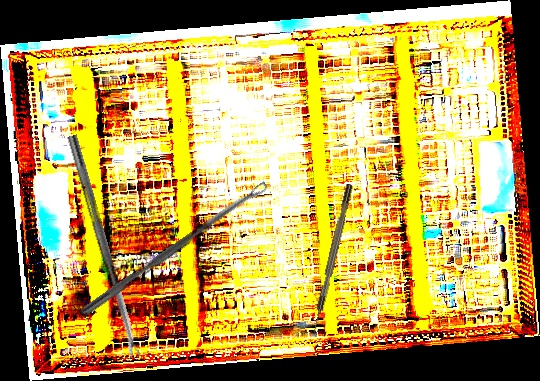Hook Surgical: (309, 183, 355, 335)
Surgical Spoon: (78, 181, 270, 319), (66, 134, 140, 359)
